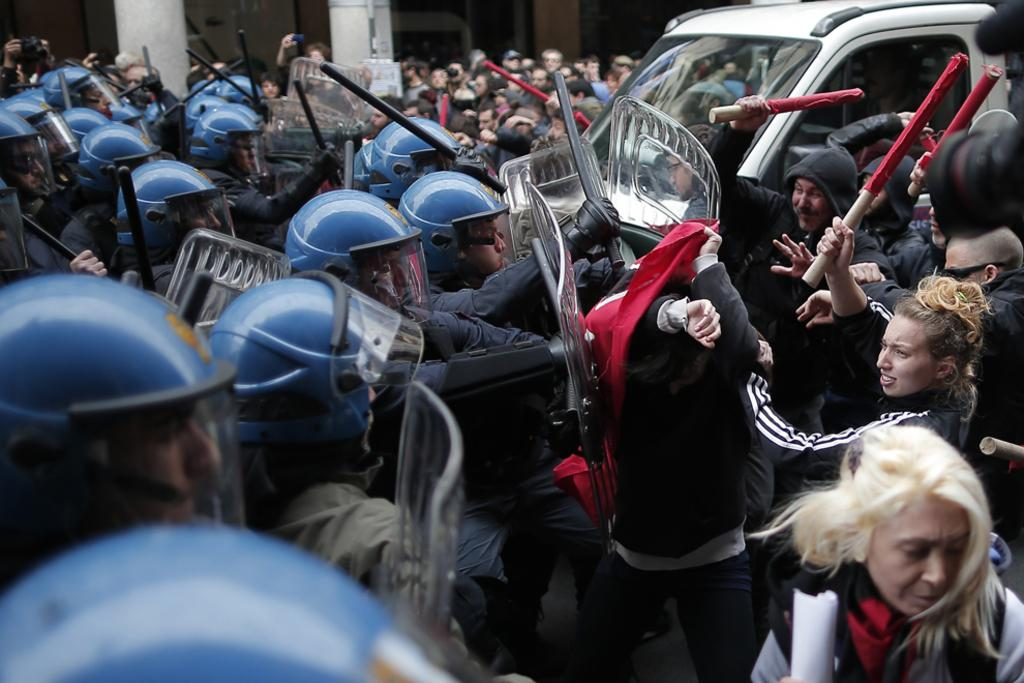helmet: (0, 274, 239, 550), (197, 269, 425, 452), (285, 189, 434, 324), (397, 171, 517, 274), (117, 159, 236, 258), (369, 117, 474, 203), (77, 123, 174, 200), (189, 105, 268, 177), (0, 108, 57, 198), (0, 103, 81, 166), (42, 66, 125, 114), (670, 81, 729, 126)
nohelmet: (842, 425, 991, 618), (875, 292, 981, 401), (786, 146, 860, 235)
